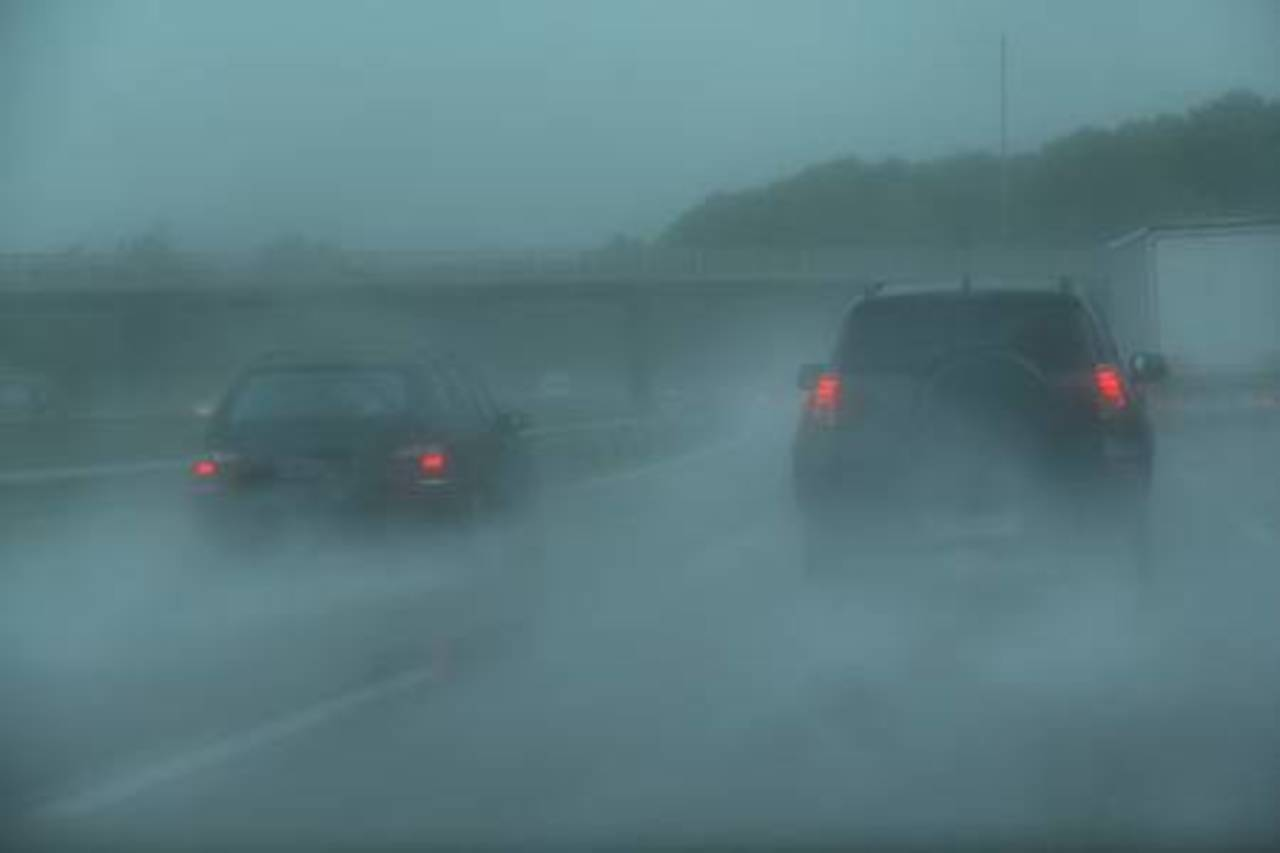car: (803, 287, 1148, 498), (165, 359, 522, 543)
truck: (1106, 222, 1274, 471)
